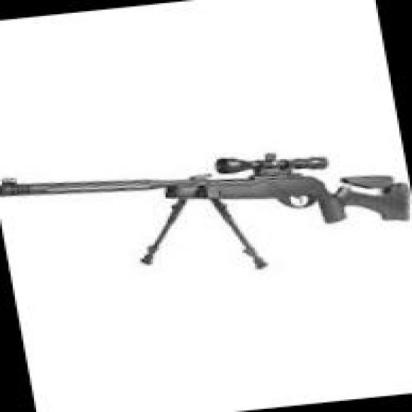Gun: (0, 121, 412, 264)
